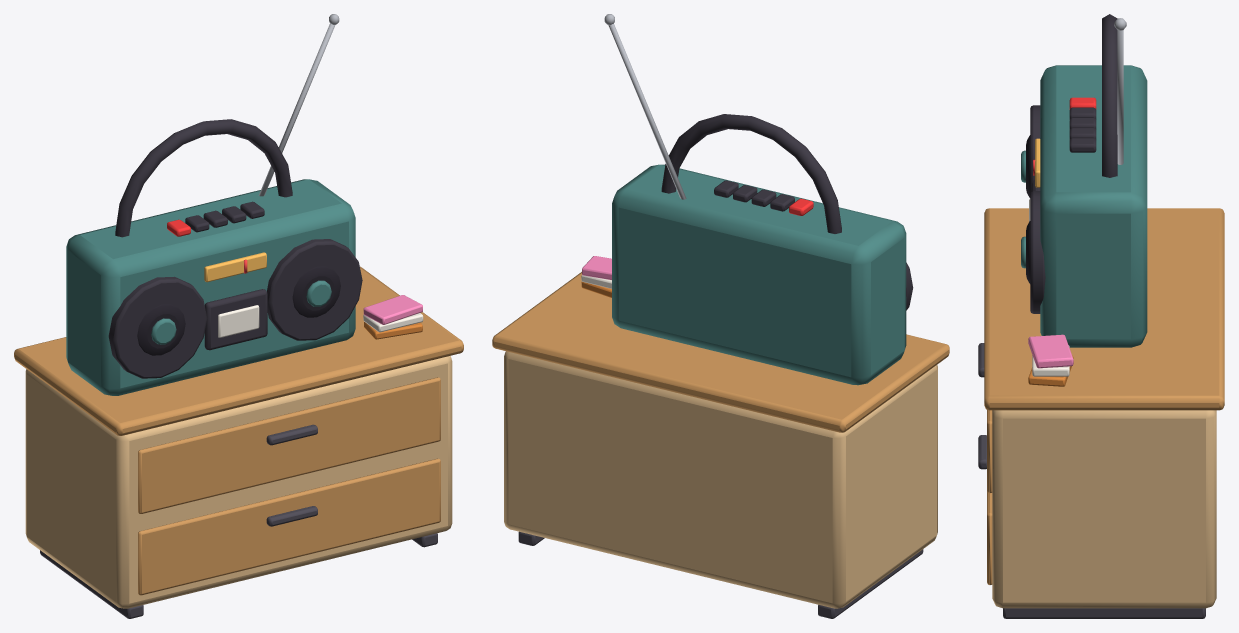
The model's file is boombox_l2.glb.
The picture shows the model from 3 angles, left to right: view 1: azimuth 30°, elevation 25°; view 2: azimuth 150°, elevation 25°; view 3: azimuth 270°, elevation 25°; orthographic projection. The views are drawn at different scales.
Parts seen in each view (by area): view 1: boombox_l2; view 2: boombox_l2; view 3: boombox_l2.
Boxes of the visible parts, left/top/right/bottom form: boombox_l2: left=14, top=14, right=463, bottom=618; boombox_l2: left=492, top=14, right=949, bottom=618; boombox_l2: left=978, top=14, right=1224, bottom=618.
Size of the model in its own units: 0.85 by 1.18 by 0.461.
